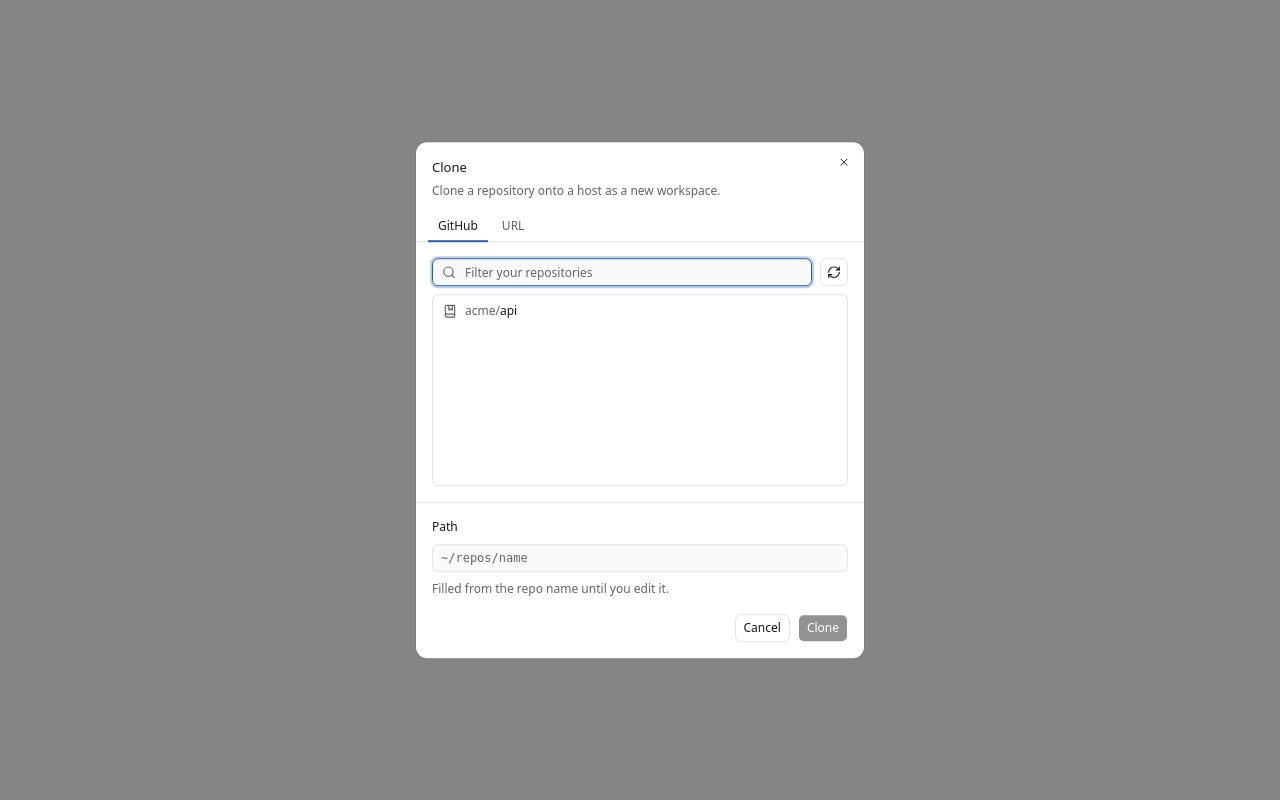
CloneDialog › renders the rejection message
Click the option "acme/api": [480, 311] box [443, 302, 517, 319]
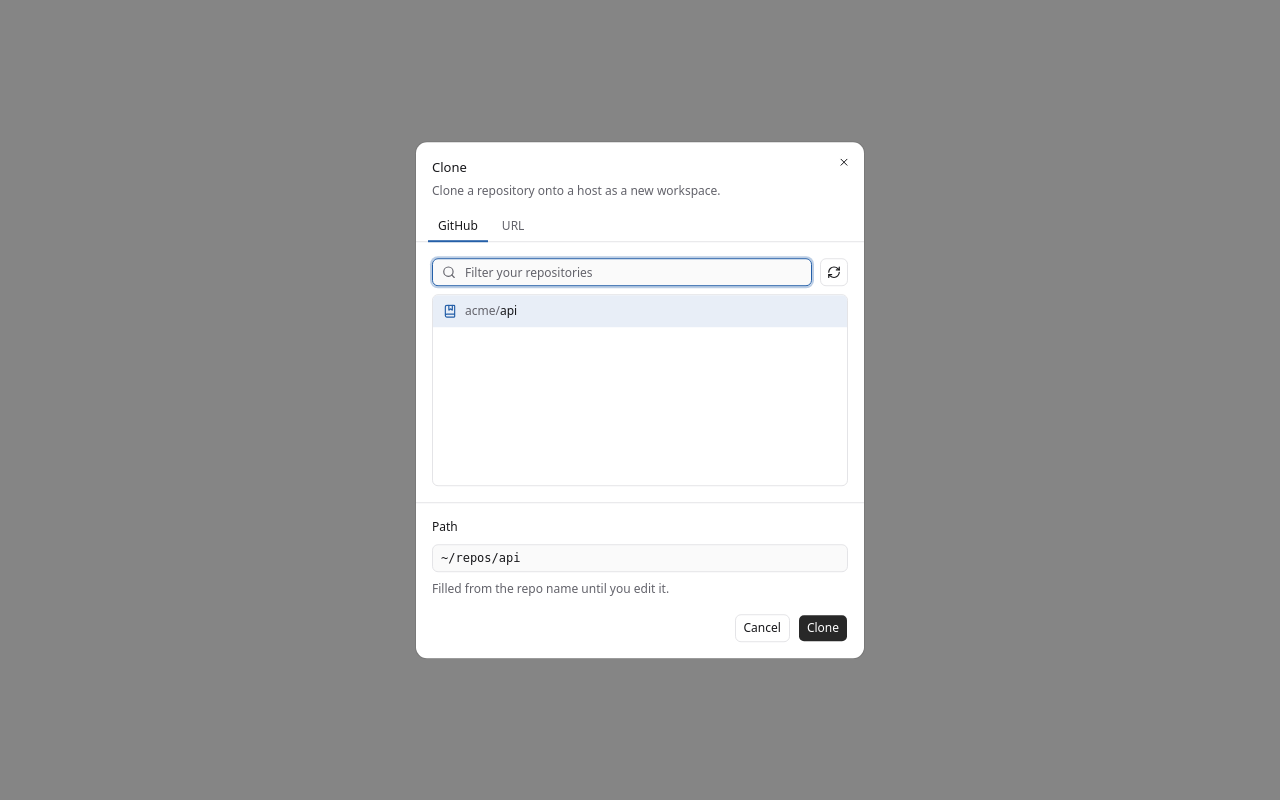
Click the button "Clone": [823, 628] box [798, 614, 848, 642]
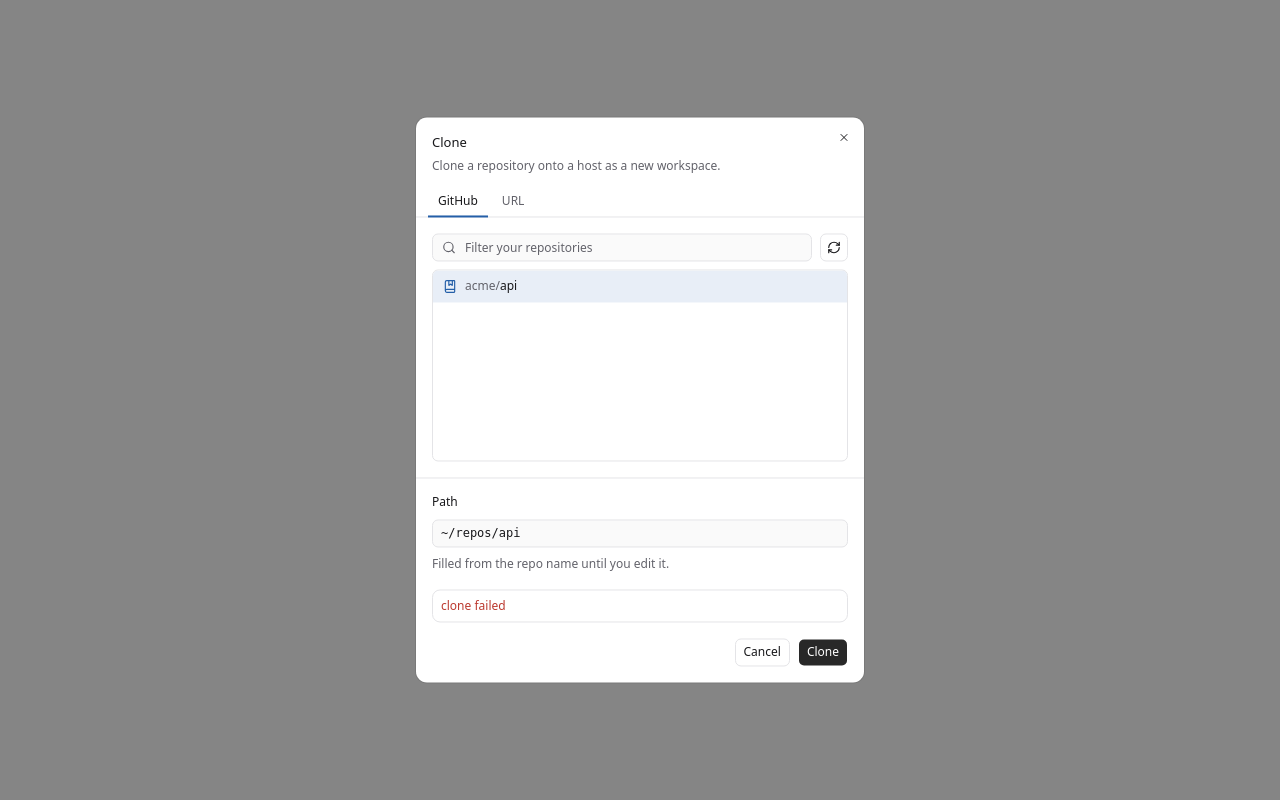
Now the text "clone failed" is shown, box [441, 597, 506, 614]
